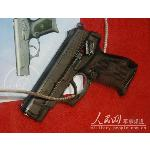Pistol: (19, 21, 138, 122), (12, 18, 60, 76)
